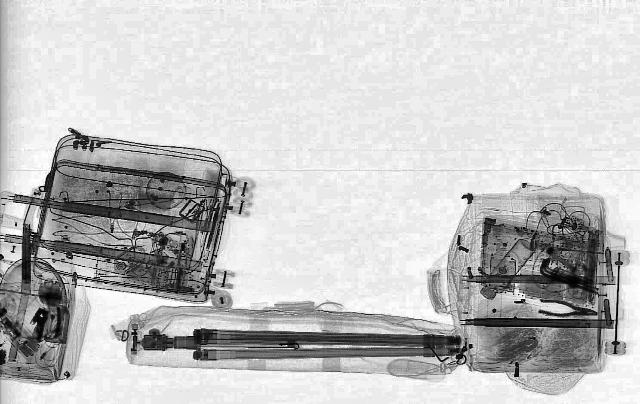Pliers: (534, 298, 598, 320)
